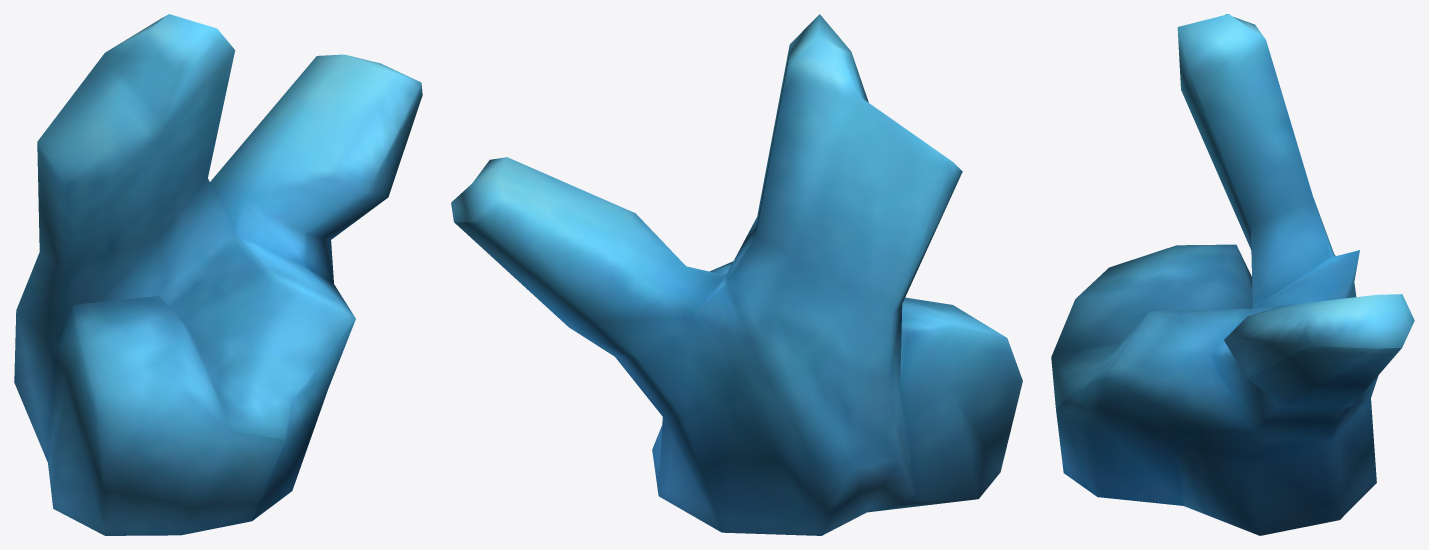
Rendered from Stage_BingYuan_BingLing07.FBX.
3 renders of one model, left to right at view 1: azimuth 30°, elevation 25°; view 2: azimuth 150°, elevation 25°; view 3: azimuth 270°, elevation 25°, orthographic. The views are drawn at different scales.
Visible parts, largest first — view 1: Stage_BingYuan_BingLing07; view 2: Stage_BingYuan_BingLing07; view 3: Stage_BingYuan_BingLing07.
Part boxes in pixels (x1,y1,x2,y2): Stage_BingYuan_BingLing07: (14, 14, 422, 535); Stage_BingYuan_BingLing07: (451, 14, 1022, 535); Stage_BingYuan_BingLing07: (1051, 14, 1414, 535).
Bounding box in the file's own units: 68.08 × 68.05 × 48.58.
